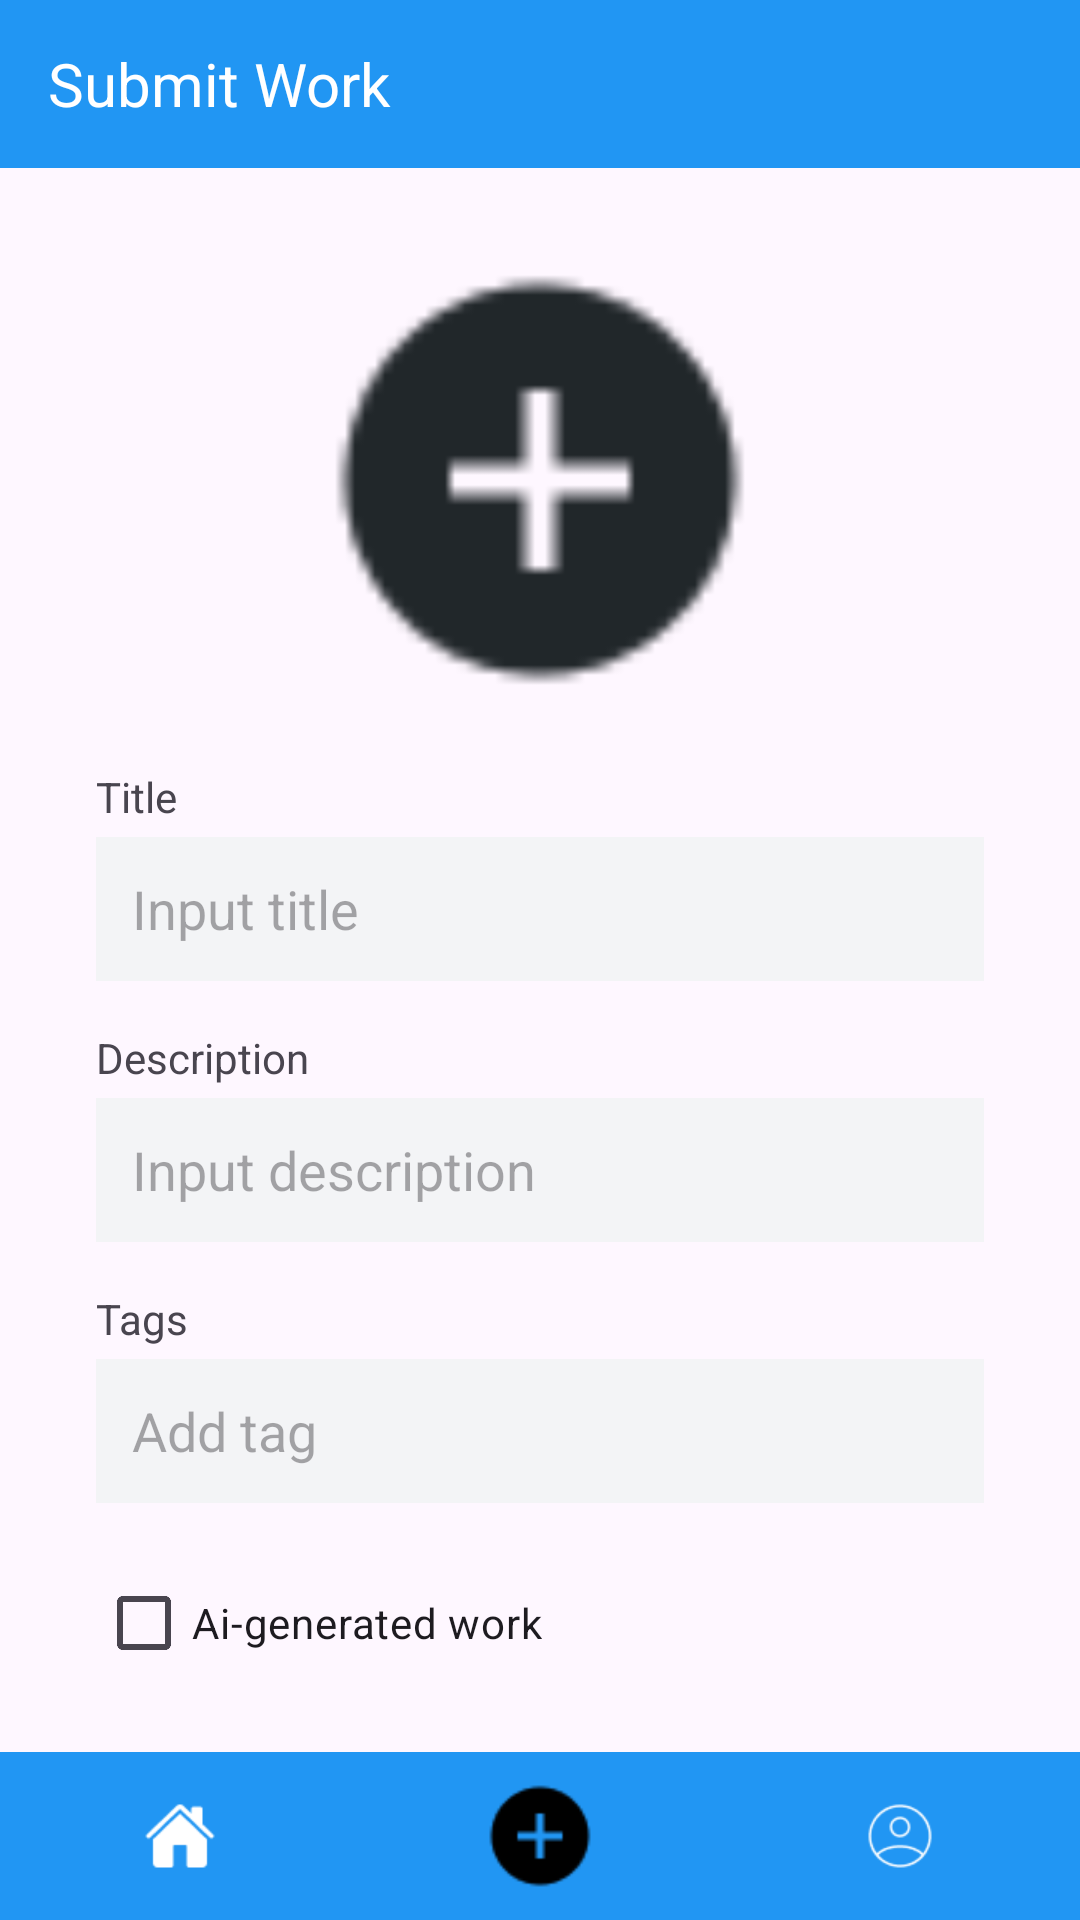

Named icons in this screenshot (1080w x 1920h) and their bounding boxes, (x1, y1, x2, y2):
add: (489, 1785, 591, 1887)
home: (145, 1804, 215, 1868)
profile: (868, 1804, 932, 1868)
